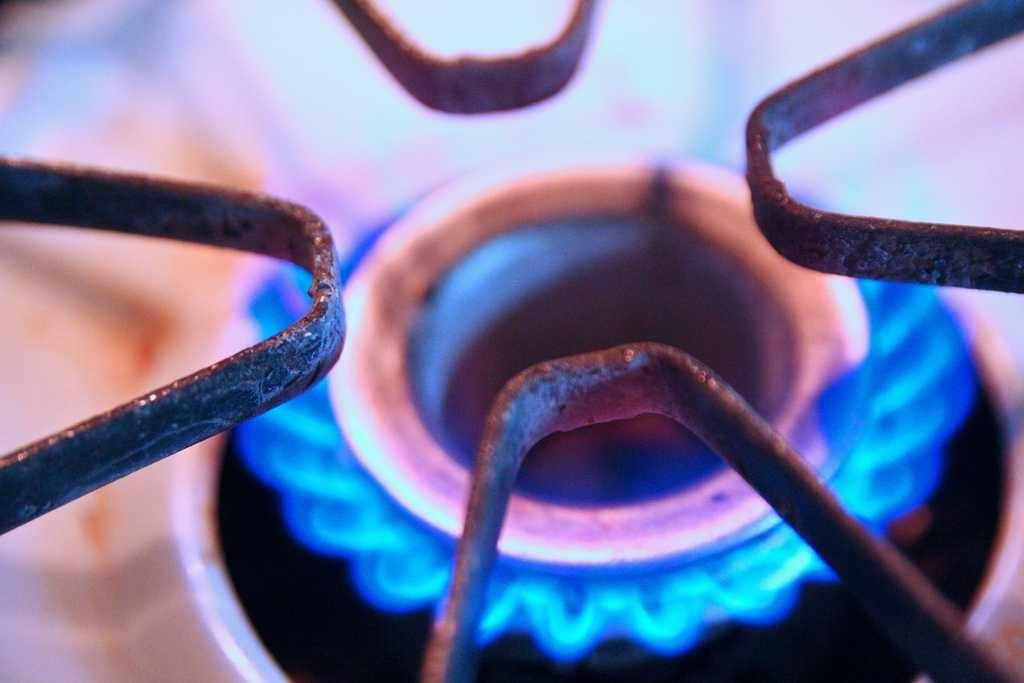fire: (502, 572, 772, 637), (872, 283, 935, 503), (258, 423, 347, 502)
